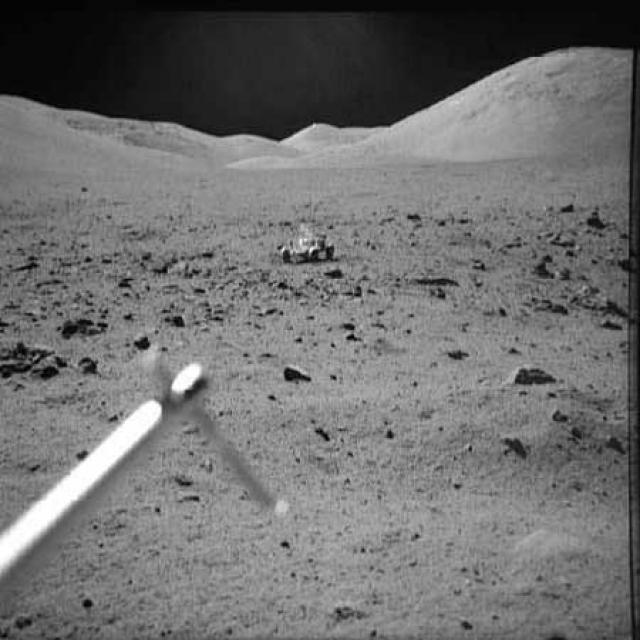artifact: (3, 342, 317, 638), (272, 207, 345, 272)
crater: (135, 252, 250, 284), (399, 263, 468, 294)
rock: (0, 327, 73, 381), (560, 270, 626, 322), (492, 354, 565, 394), (62, 309, 120, 340), (281, 352, 310, 392), (78, 351, 100, 380)
